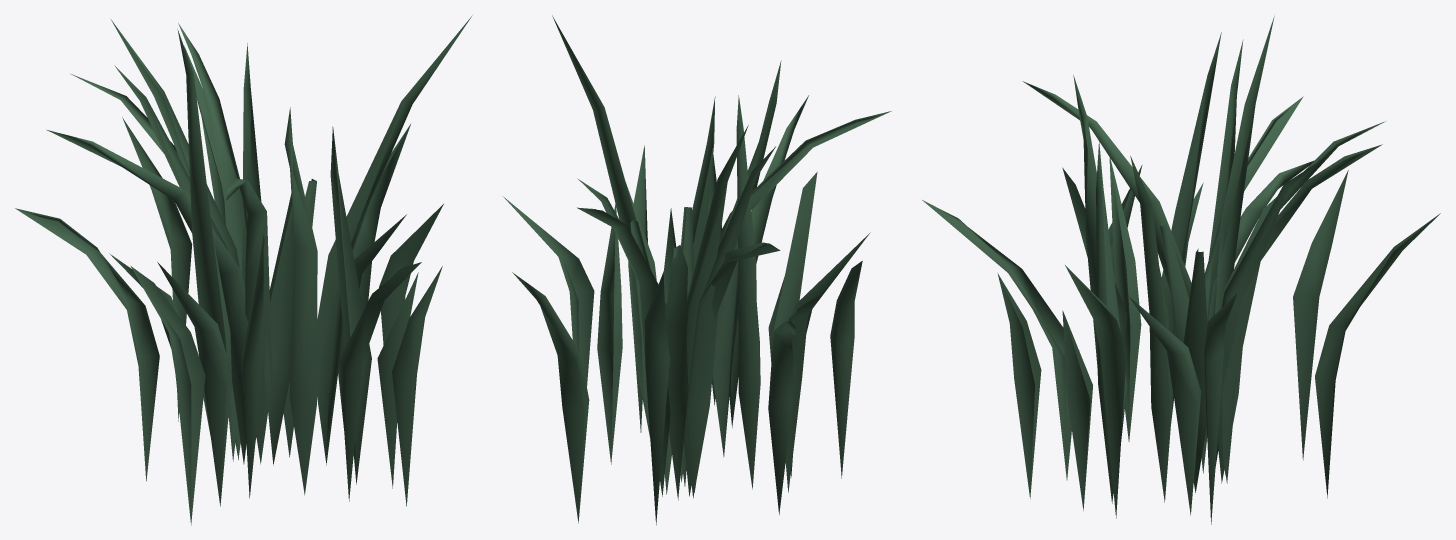
The model's file is trees-grasses-grass-clump_v1.glb.
3 renders of one model, left to right at view 1: azimuth 30°, elevation 25°; view 2: azimuth 150°, elevation 25°; view 3: azimuth 270°, elevation 25°, orthographic. The views are drawn at different scales.
Parts seen in each view (by area): view 1: Grass Clump_v1; view 2: Grass Clump_v1; view 3: Grass Clump_v1.
Boxes of the visible parts, x1,y1,x2,y2 form: Grass Clump_v1: [15, 15, 472, 525]; Grass Clump_v1: [503, 15, 891, 525]; Grass Clump_v1: [922, 16, 1440, 524].
Size of the model in its own units: 0.2992 by 0.3539 by 0.4.
